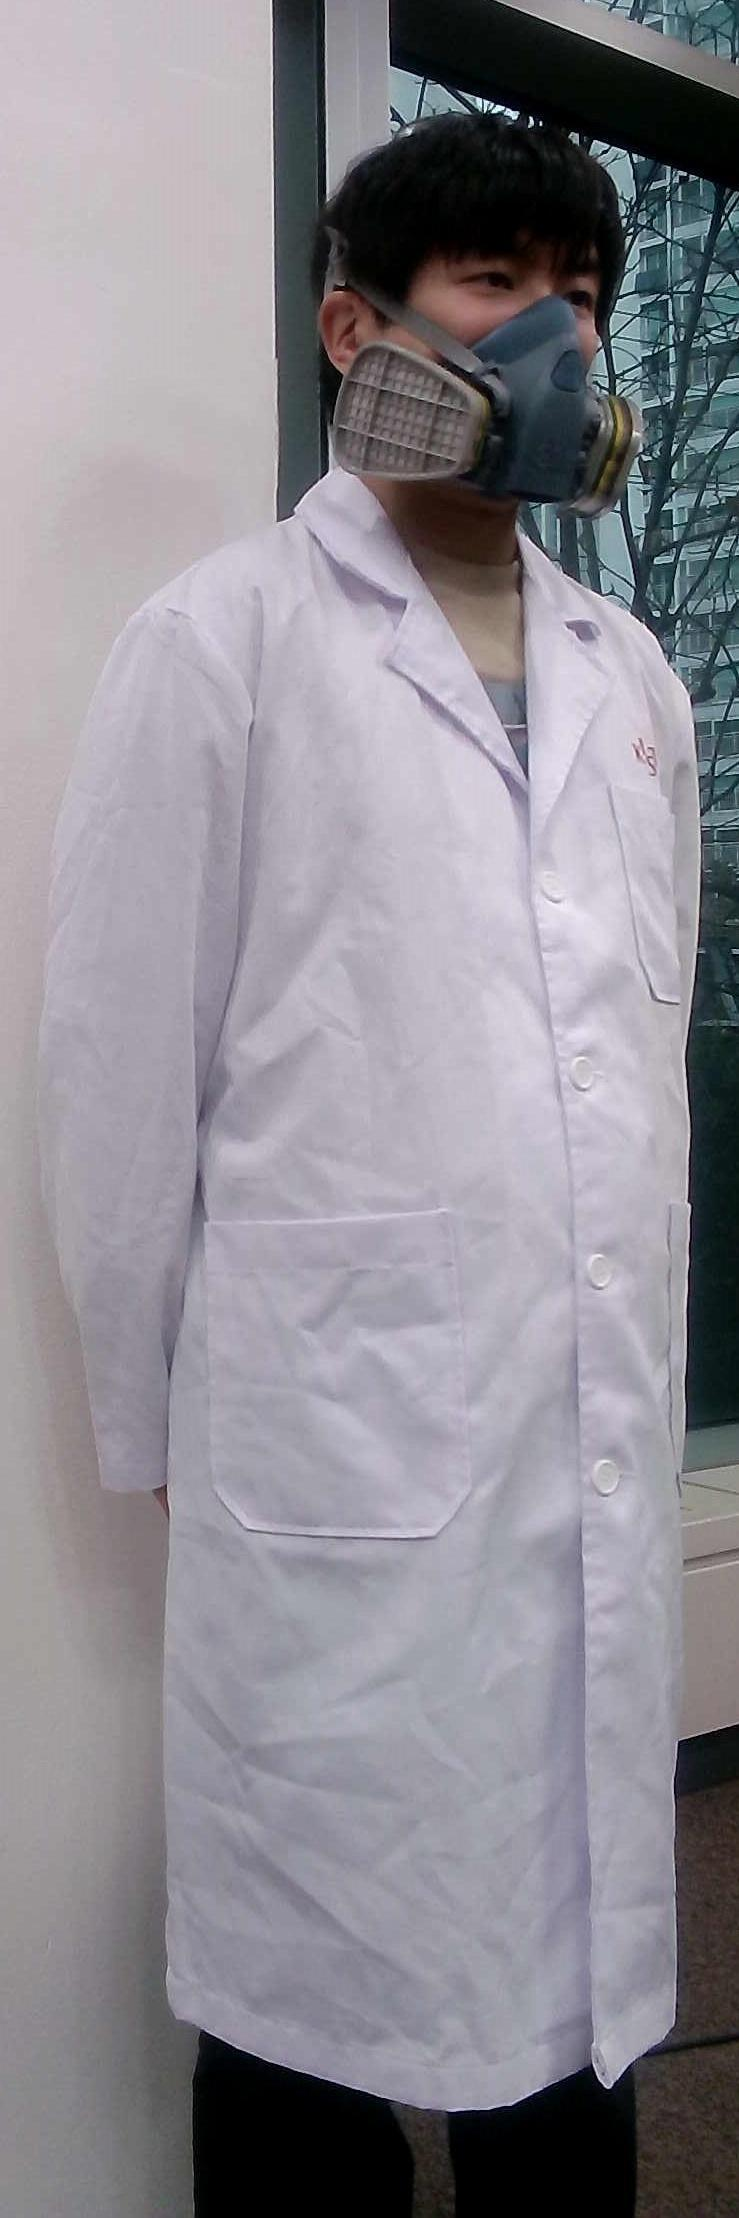lab_coat: (101, 562, 712, 2071)
